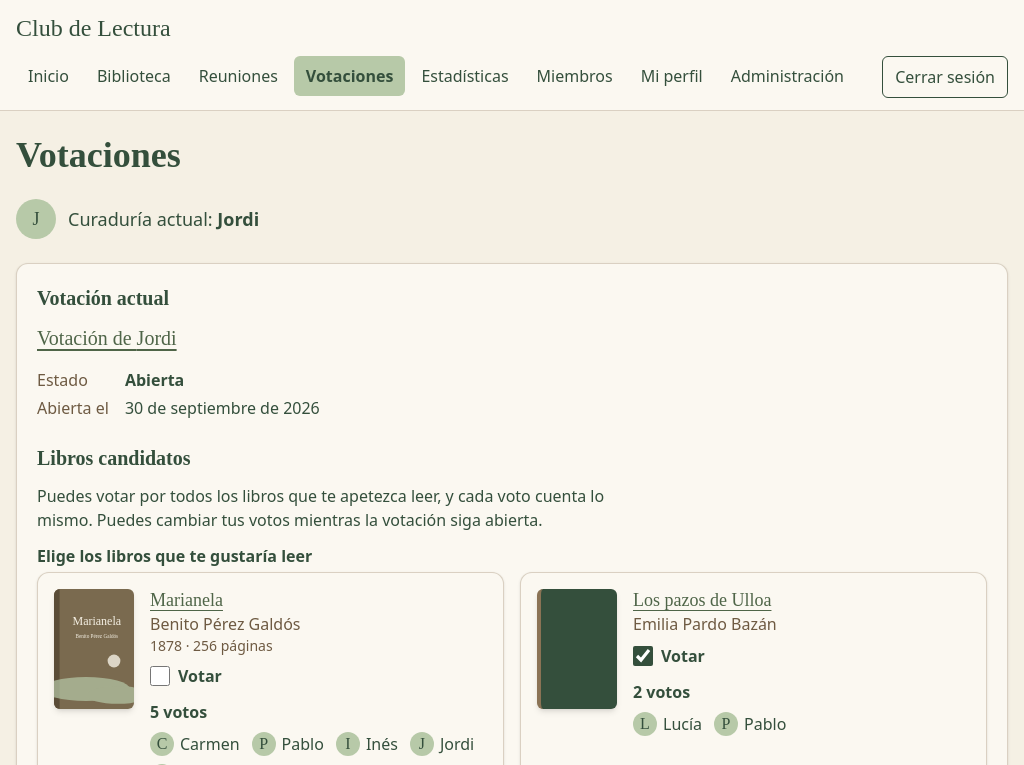
Scenario: Votaciones › reloads calmly when the current vote closes before a change is saved
Step 1. Click the checkbox named "Votar por «Marianela»" → (160, 676), box [150,666,170,686]
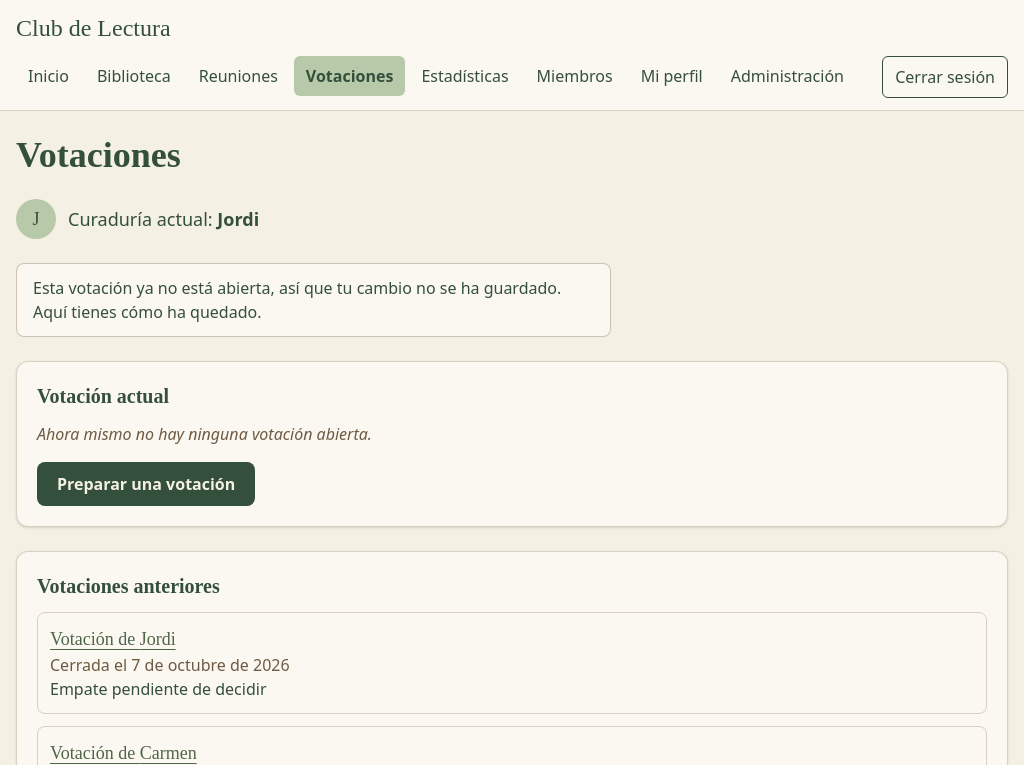
expect the text "Esta votación ya no está abierta, así que tu cambio no se ha guardado. Aquí tienes cómo ha quedado." is shown: met, box [33,277,561,323]
expect the element "Votación actual" shows "Ahora mismo no hay ninguna votación abierta.": met, box [37,423,372,445]
expect the text "Empate pendiente de decidir" is shown: met, box [37,612,987,714]
